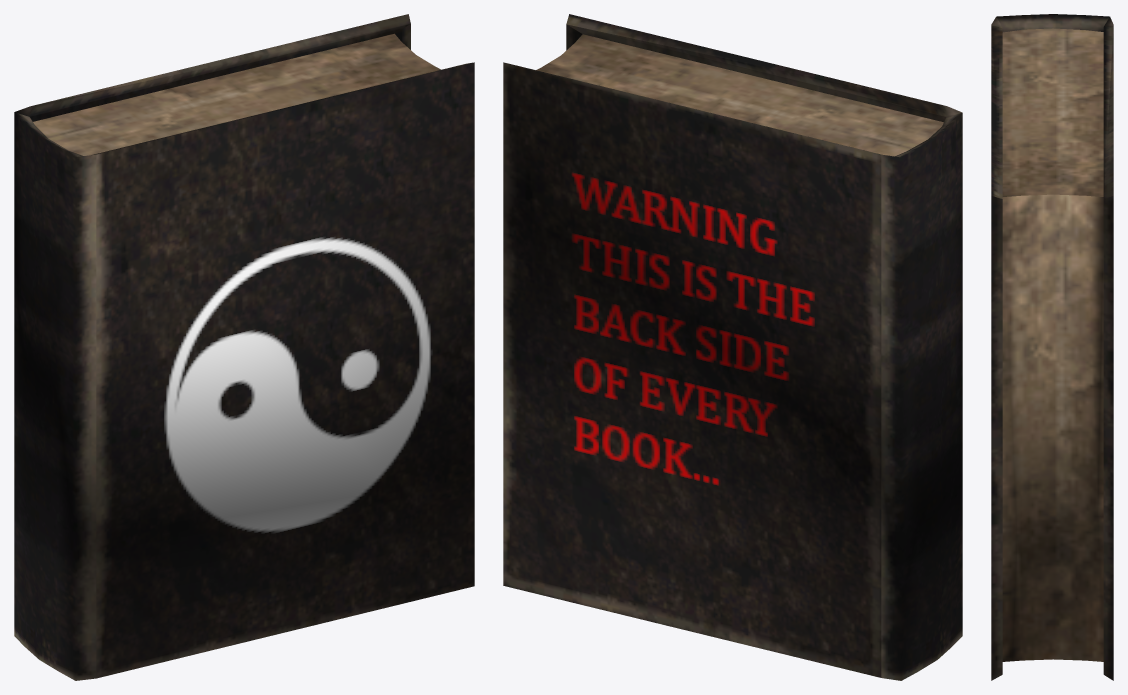
The model's file is SOTR_Biblio_N.dae.
3 views of the same model, side by side, from view 1: azimuth 30°, elevation 25°; view 2: azimuth 150°, elevation 25°; view 3: azimuth 270°, elevation 25° (orthographic). The views are drawn at different scales.
Visible parts, largest first — view 1: pCube1; view 2: pCube1; view 3: pCube1.
Part boxes in pixels (x1,y1,x2,y2): pCube1: [14, 14, 474, 680]; pCube1: [503, 14, 962, 680]; pCube1: [991, 14, 1113, 680].
Size of the model in its own units: 0.2811 by 0.08 by 0.35.
1 material, 1 textured.
